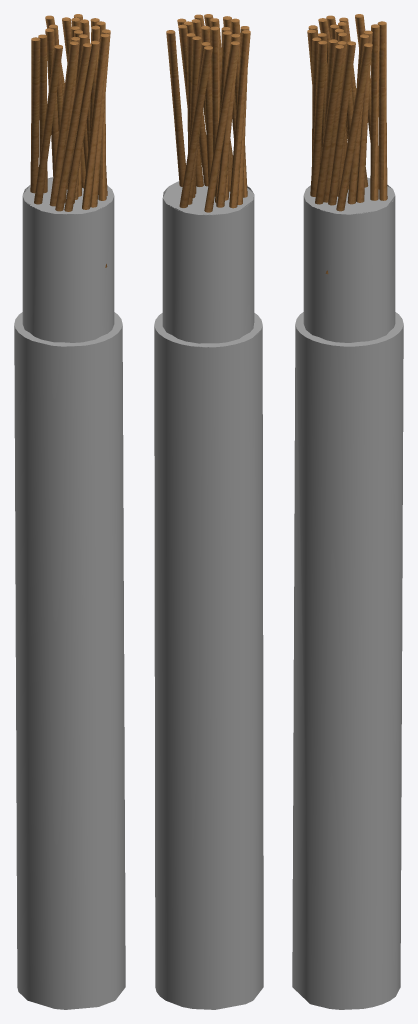
Rendered from cop_wire.fbx.
3 views of the same model, side by side, from view 1: azimuth 90°, elevation 25°; view 2: azimuth 150°, elevation 25°; view 3: azimuth 270°, elevation 25° (orthographic).
Visible parts, largest first — view 1: cop_wire; view 2: cop_wire; view 3: cop_wire.
Boxes of the visible parts, <box> form: cop_wire: <box>14,14,125,1009</box>; cop_wire: <box>154,14,263,1009</box>; cop_wire: <box>292,14,403,1009</box>.
Bounding box in the file's own units: 3.78 × 36.83 × 3.89.
Materials: 3 (1 with a texture image).
